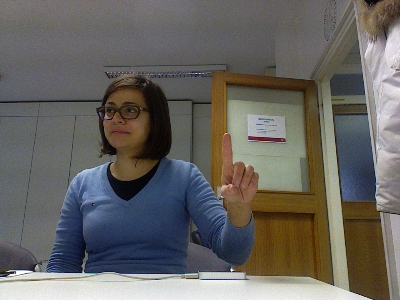食指: (219, 131, 259, 206)
